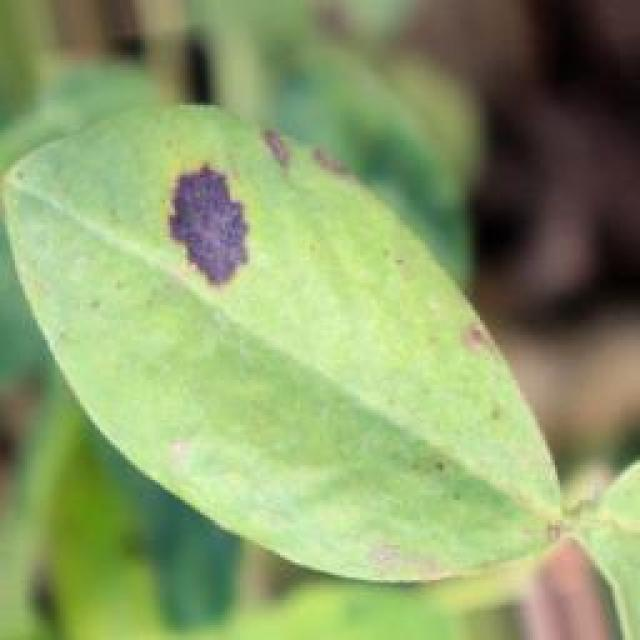Yellowish: (137, 84, 404, 314)
